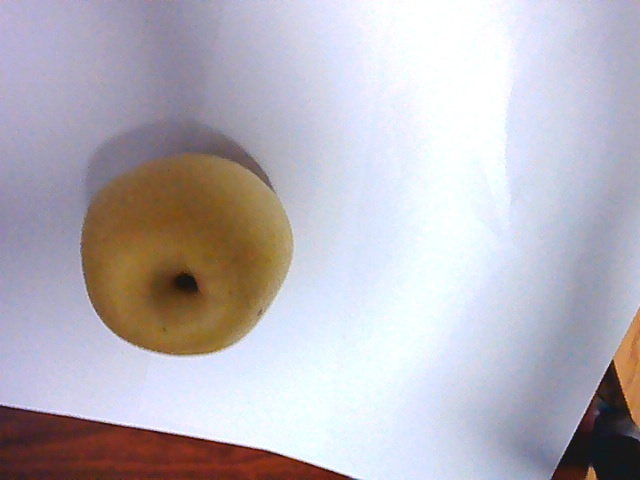pear: (72, 153, 286, 353)
